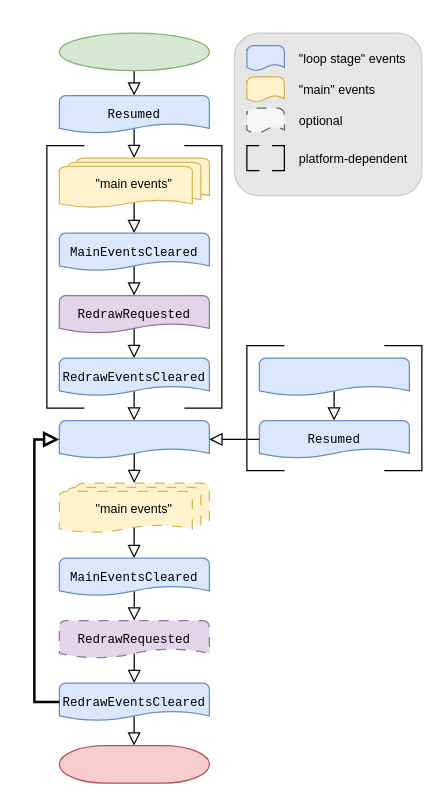
The diagram is 444 pixels wide and 805 high, and some of its shapes have lost their labels. The shapes that lost their labels are listed below. From the top down, each one's centre as x and y in pixels, then its label:
point (133, 51): NewEvents(Init)
point (333, 376): Suspended
point (133, 438): NewEvents(_)
point (133, 763): LoopDestroyed
